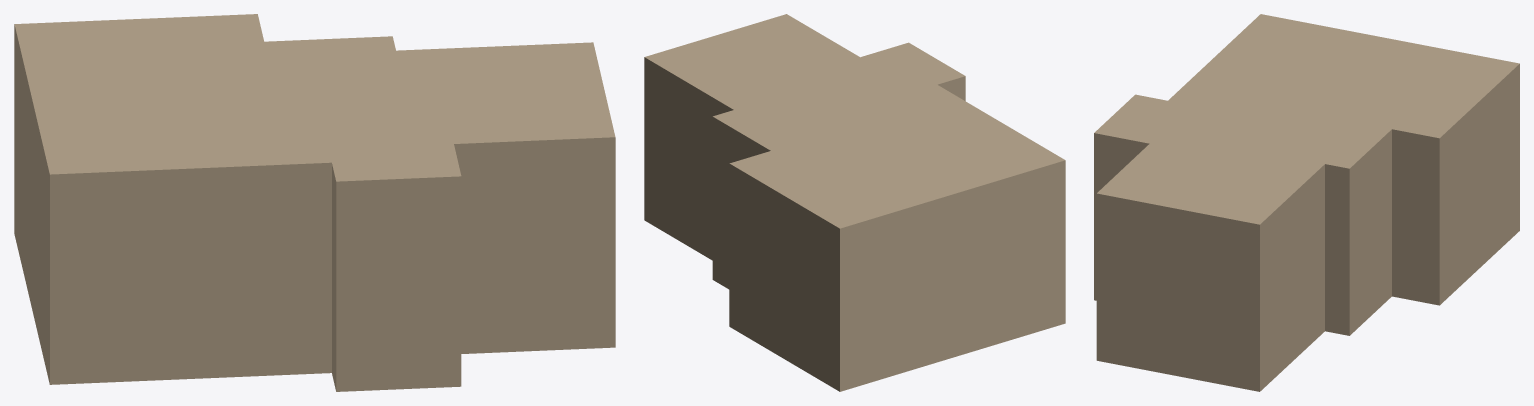
The model's file is bld_99531904.dae.
The picture shows the model from 3 angles, left to right: view 1: azimuth 30°, elevation 25°; view 2: azimuth 150°, elevation 25°; view 3: azimuth 270°, elevation 25°; orthographic projection. The views are drawn at different scales.
Parts seen in each view (by area): view 1: bld_99531904; view 2: bld_99531904; view 3: bld_99531904.
Boxes of the visible parts, box(x1,y1,x2,y2) form: bld_99531904: box(14, 14, 615, 391); bld_99531904: box(644, 14, 1065, 391); bld_99531904: box(1094, 14, 1519, 391).
Bounding box in the file's own units: 21.61 × 18.46 × 8.
